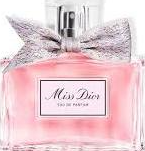dior_miss_dior: (1, 1, 144, 150)
